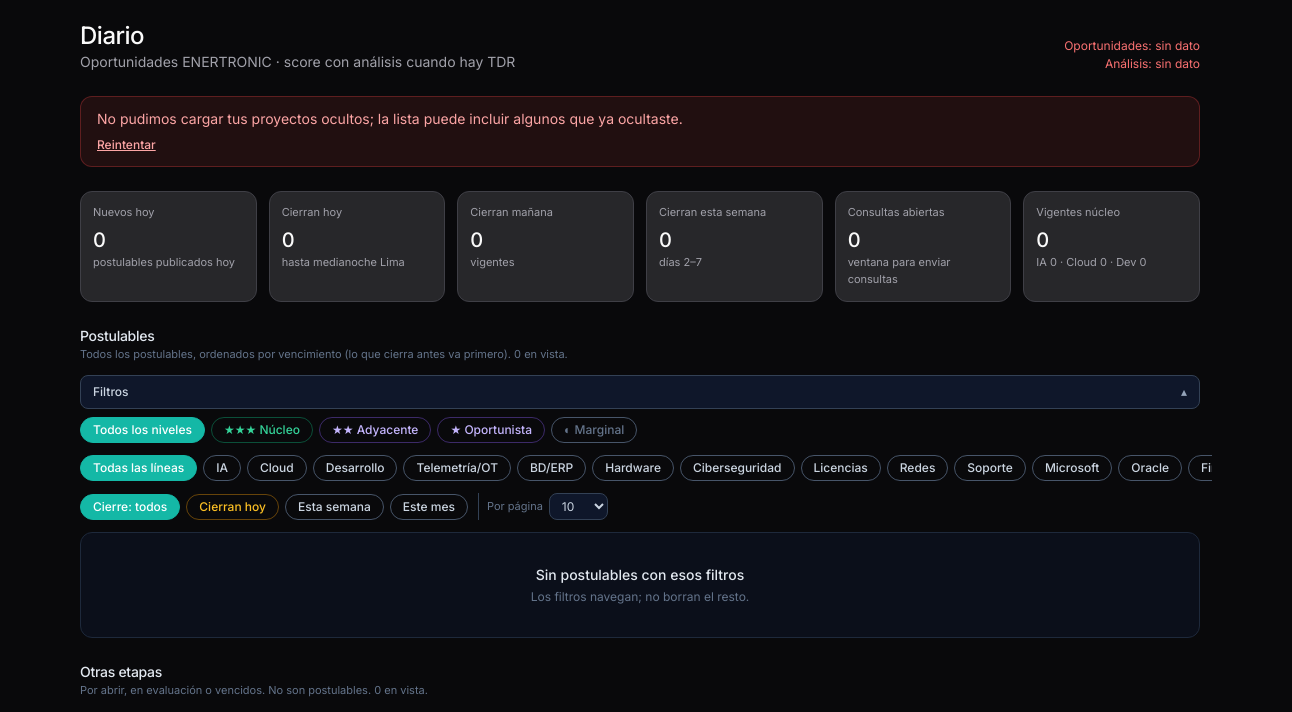
it: Diario: errores de carga recuperables › fallo de ocultos: aviso propio y reintento que solo repite esa lectura
Expected: the text "No pudimos cargar tus proyectos ocultos" is shown, 97,110 -> 683,127
What coordinates should you click on to do the following:
click the button "Reintentar"
I would click on:
 (126, 145)
Its box is 97,137 -> 156,153.
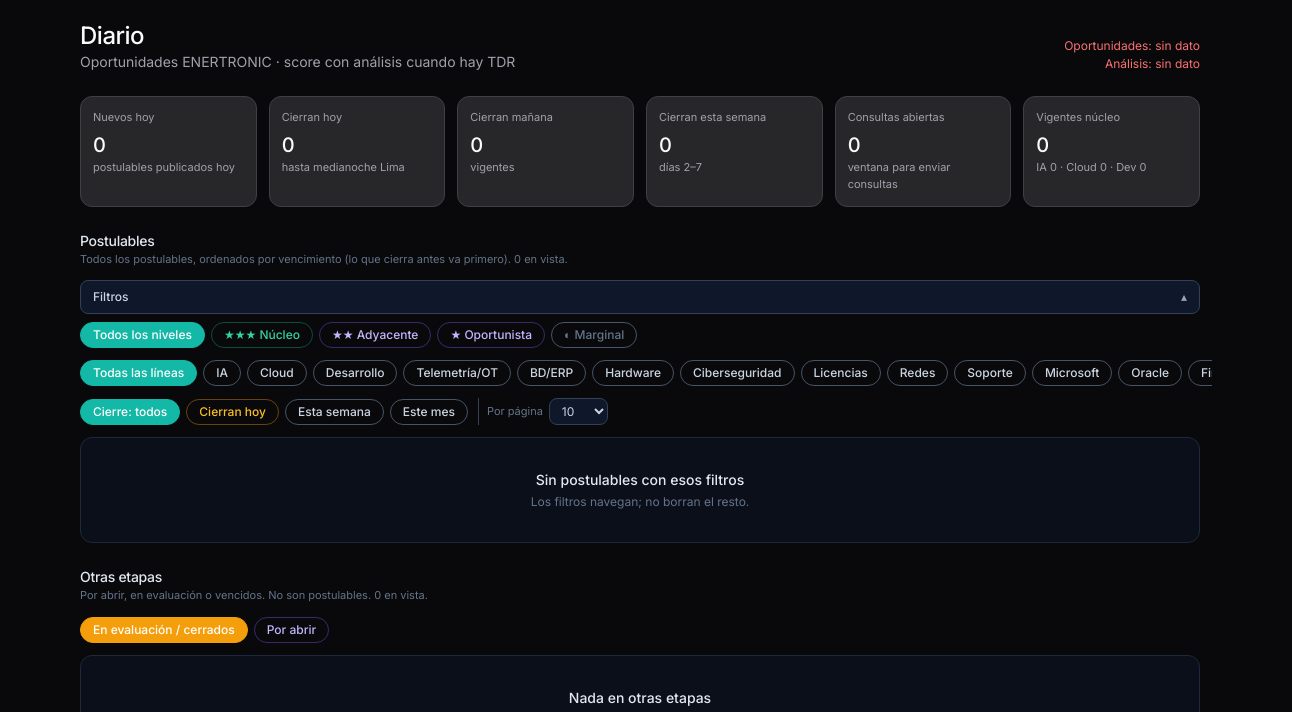
Expected: the text "Sin postulables con esos filtros" is shown, 536,471 -> 744,488
Now the text "No pudimos cargar tus proyectos ocultos" is gone
